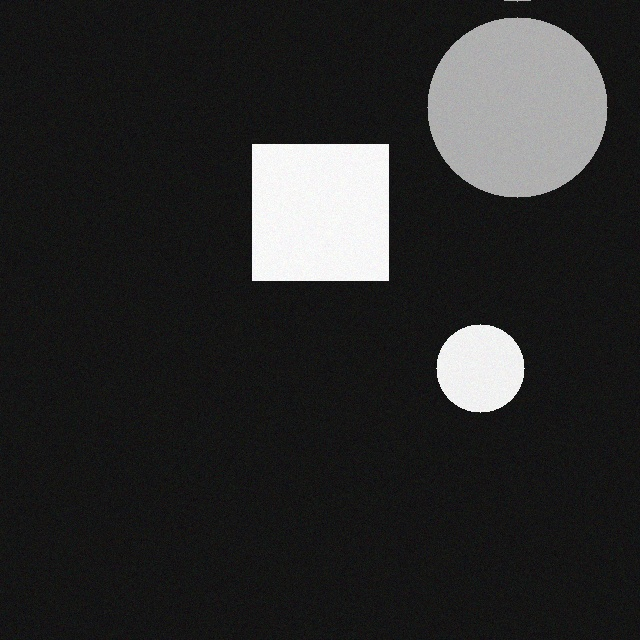circle: (417, 8, 597, 188), (426, 315, 514, 403)
square: (242, 135, 378, 271)
